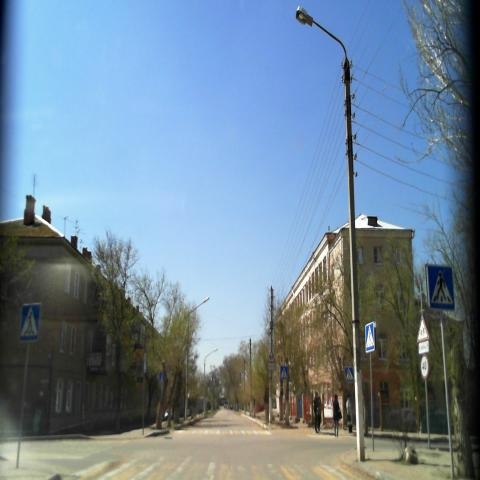1_23: (416, 314, 429, 340), (267, 349, 276, 363)
3_24: (419, 354, 430, 377)
5_19_1: (428, 263, 454, 309), (20, 303, 39, 341), (364, 321, 376, 352), (282, 362, 290, 378)
